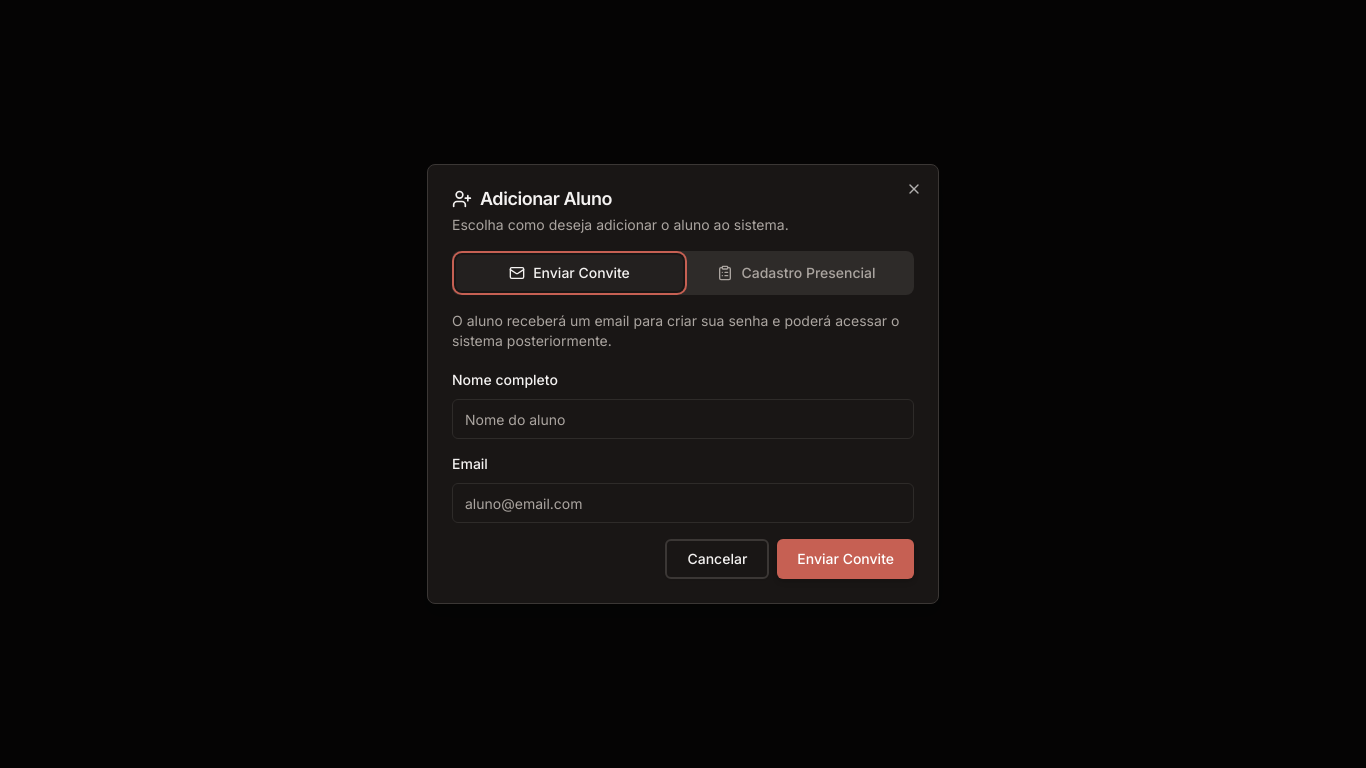
it: convite com o próprio e-mail: mostra a mensagem da função
Type "Aluno Sintético" into the field labelled "Nome completo".
click(683, 419); type("Aluno Sintético")  # box [452,399,914,439]
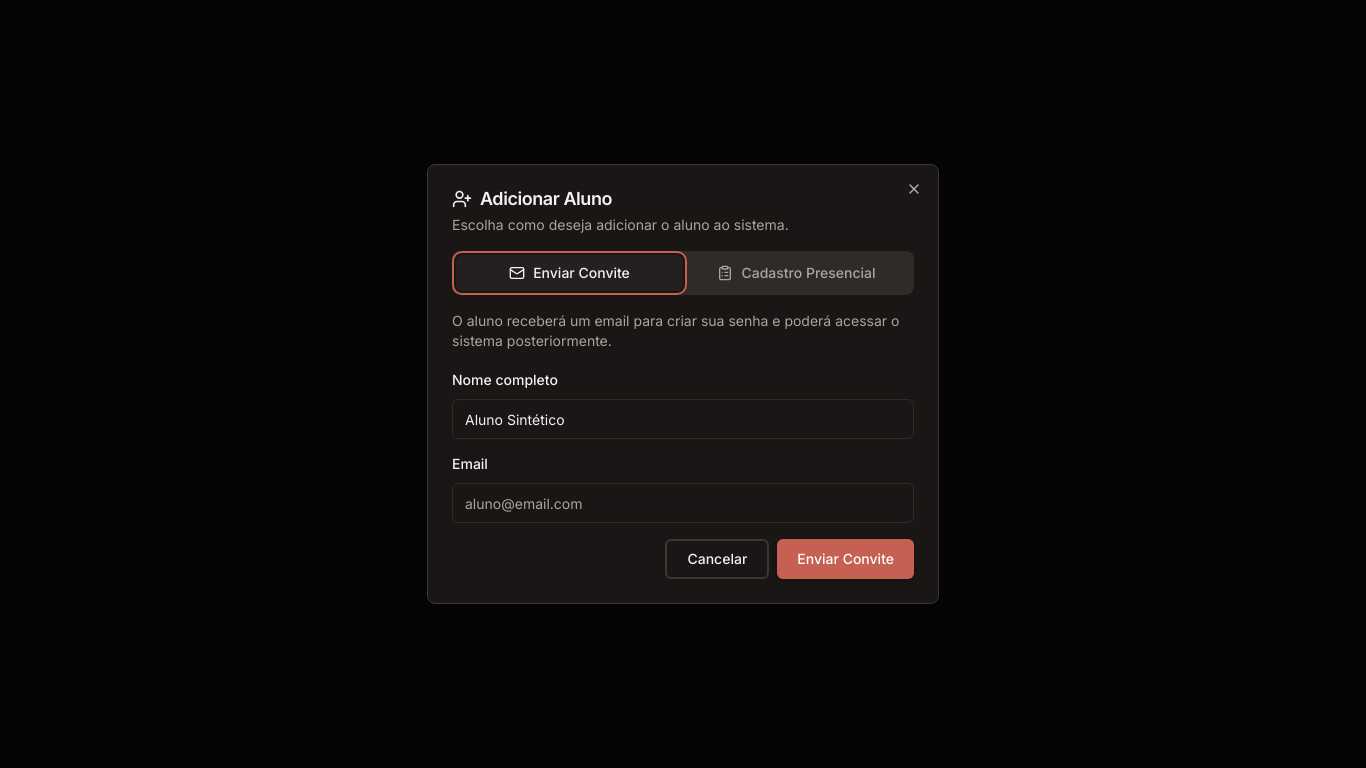
Type "prof@example.invalid" into the field labelled "Email".
click(683, 503); type("prof@example.invalid")  # box [452,483,914,523]
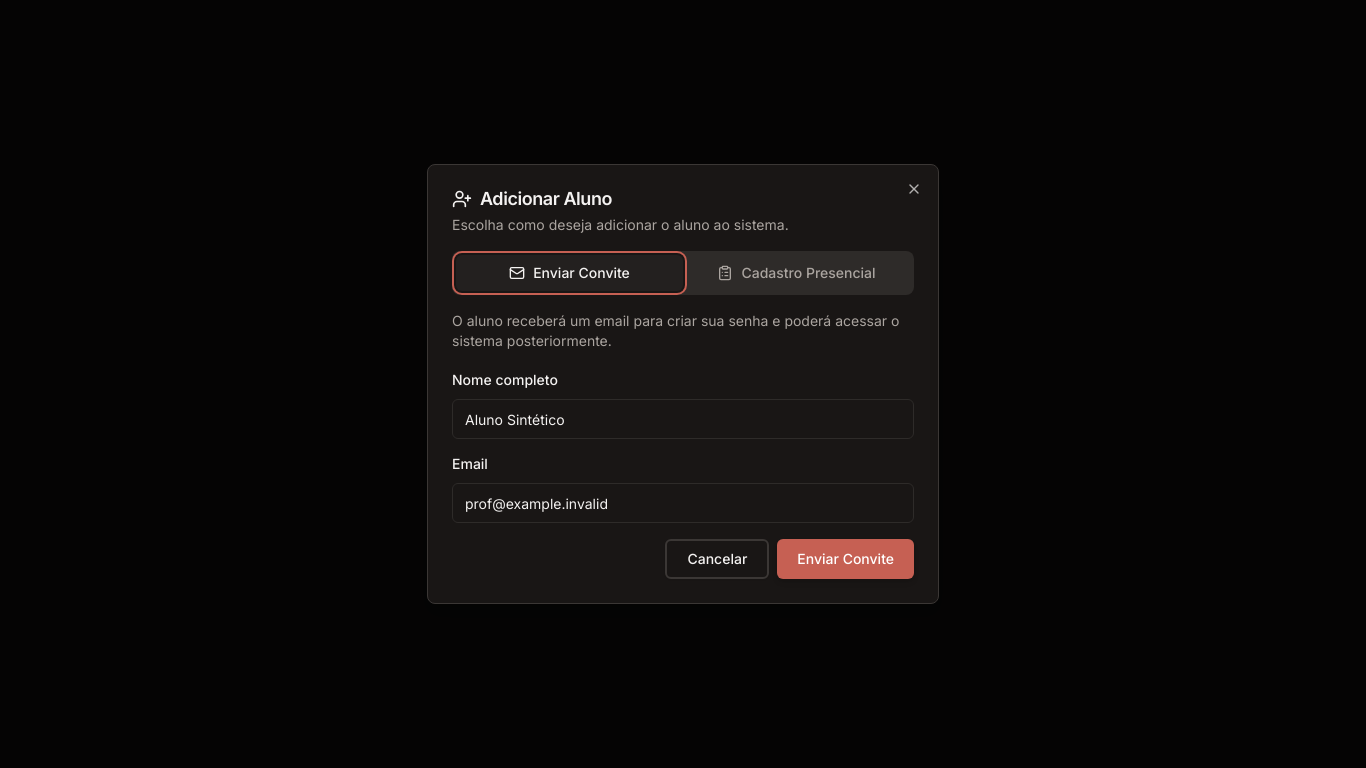
Click the button "Enviar Convite".
click(846, 559)  # box [777,539,914,579]
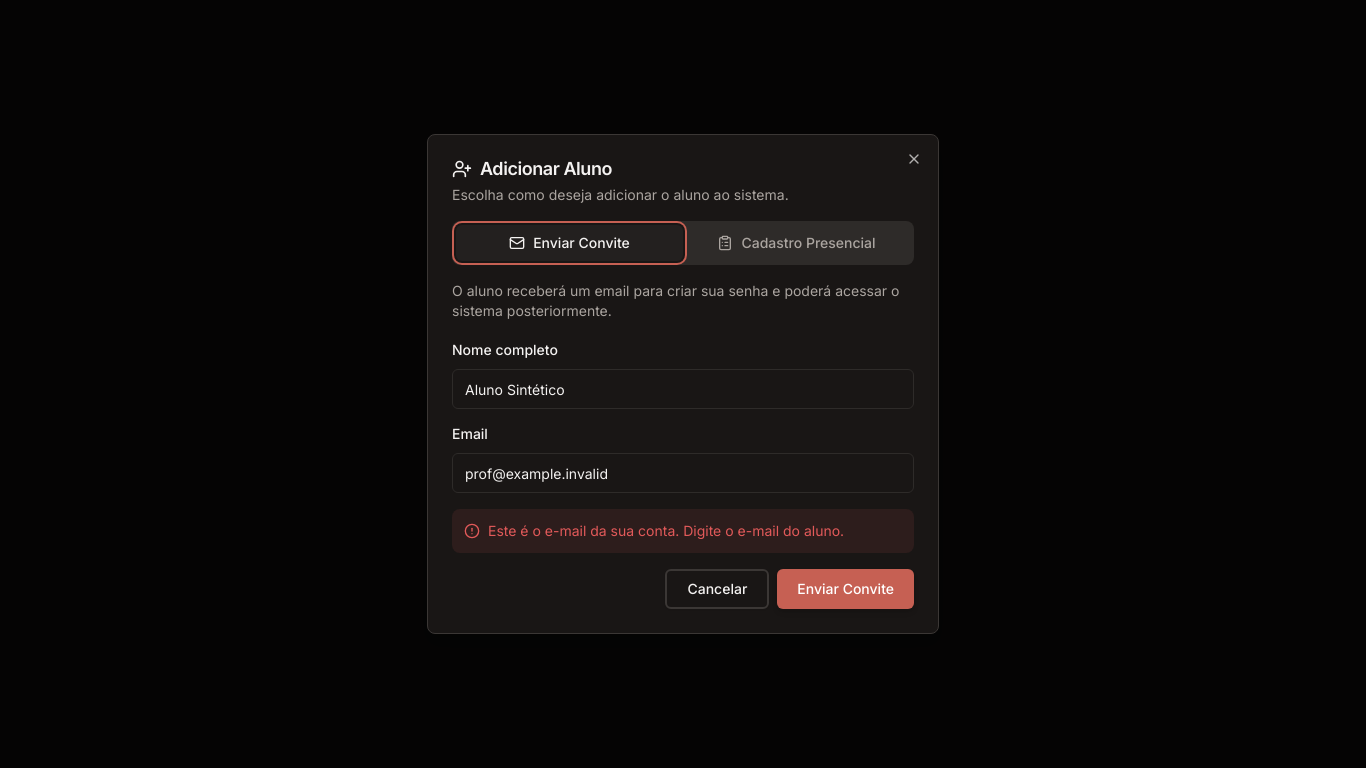
Result: the text "Este é o e-mail da sua conta. Digite o e-mail do aluno." is shown at [452,509,914,553]
